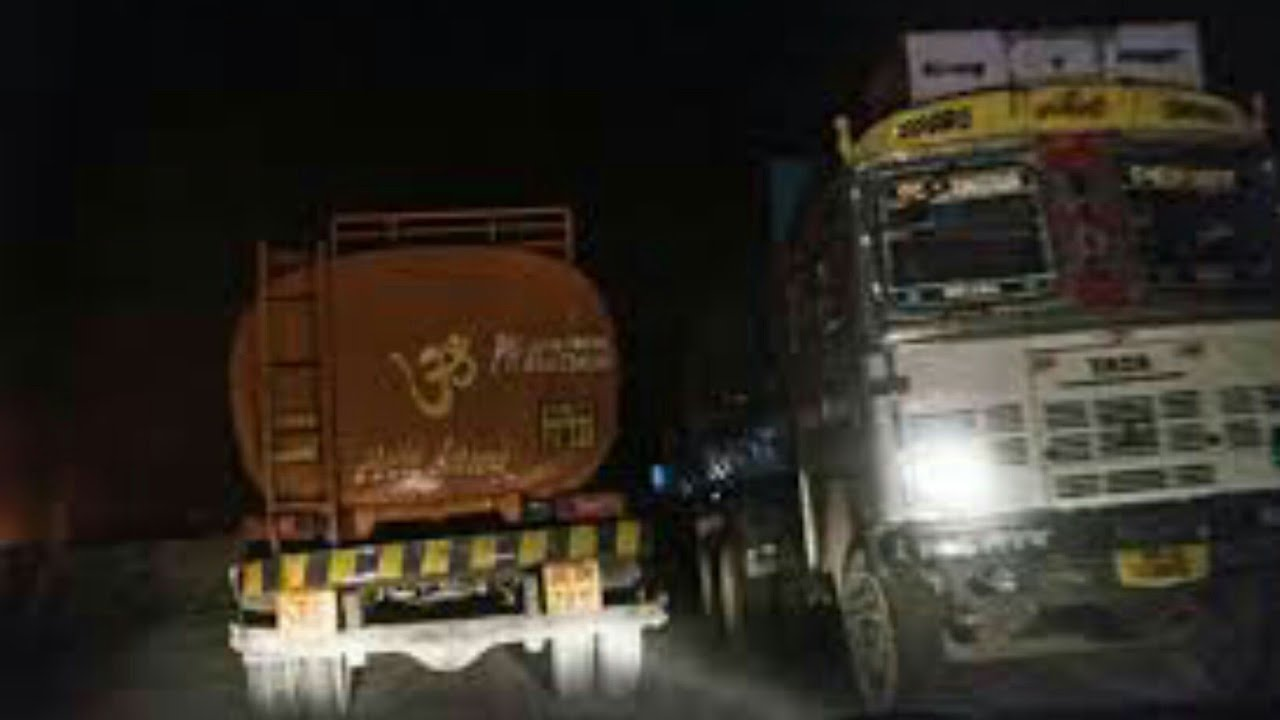truck: (769, 30, 1280, 711), (222, 219, 654, 707)
